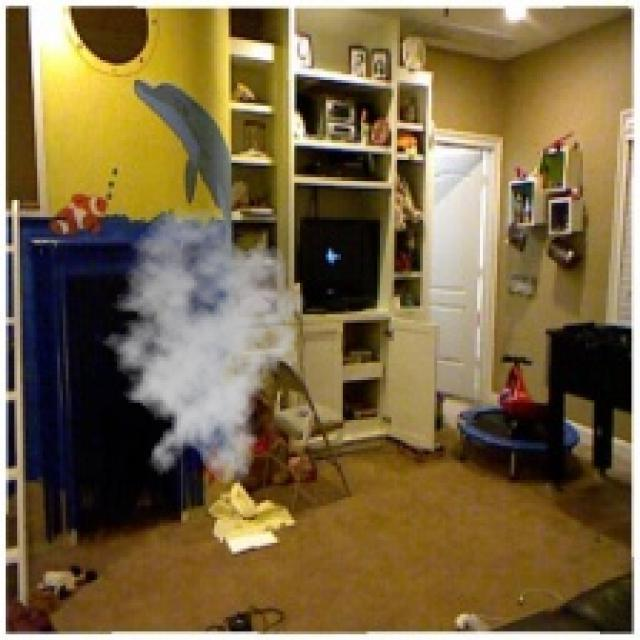Smoke: (91, 205, 312, 486)
